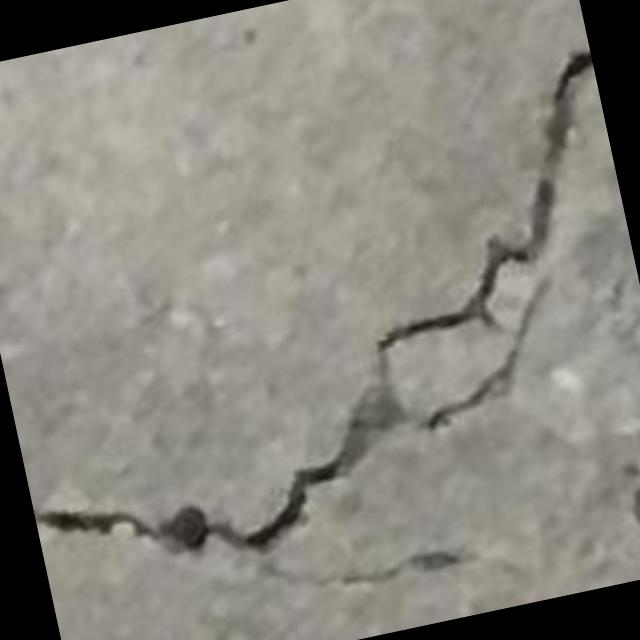crack: (34, 52, 592, 588)
